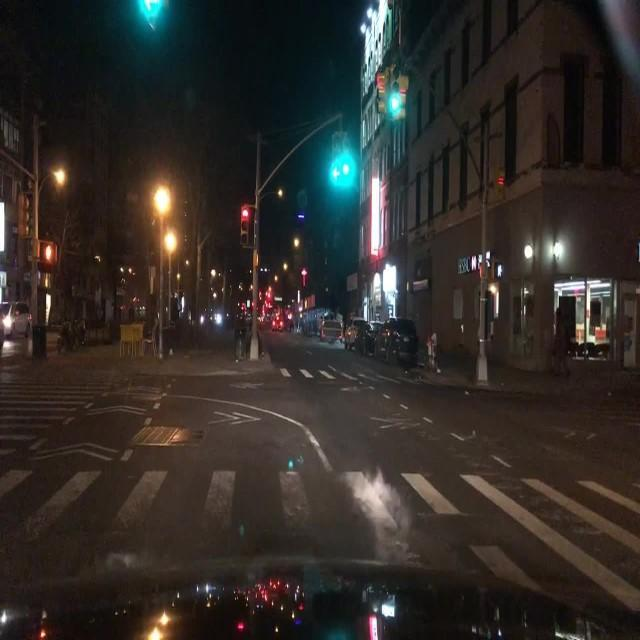normal: (332, 300, 432, 380)
